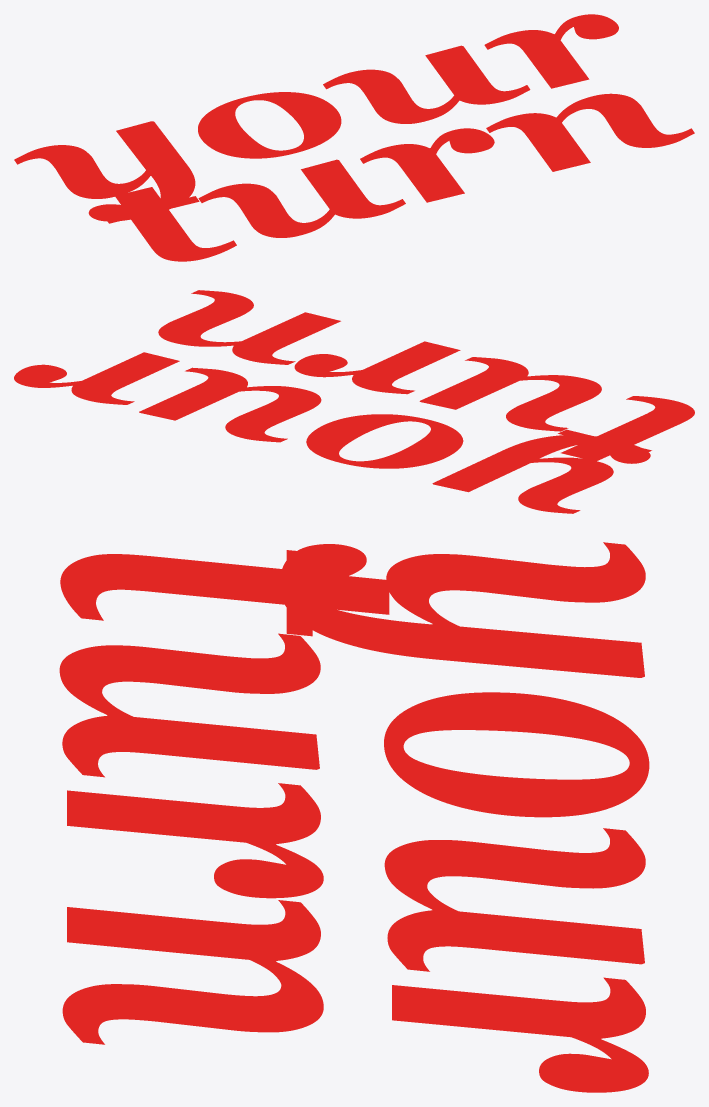
The model's file is redTurn.gltf.
3 views of the same model, one above another, from view 1: azimuth 30°, elevation 25°; view 2: azimuth 150°, elevation 25°; view 3: azimuth 270°, elevation 25° (orthographic). The views are drawn at different scales.
Parts seen in each view (by area): view 1: Red; view 2: Red; view 3: Red.
Boxes of the visible parts, x1=… form: Red: x1=14, y1=14, x2=694, y2=261; Red: x1=14, y1=290, x2=694, y2=513; Red: x1=59, y1=542, x2=649, y2=1092.
Bounding box in the file's own units: 5.12 × 0 × 2.32.
